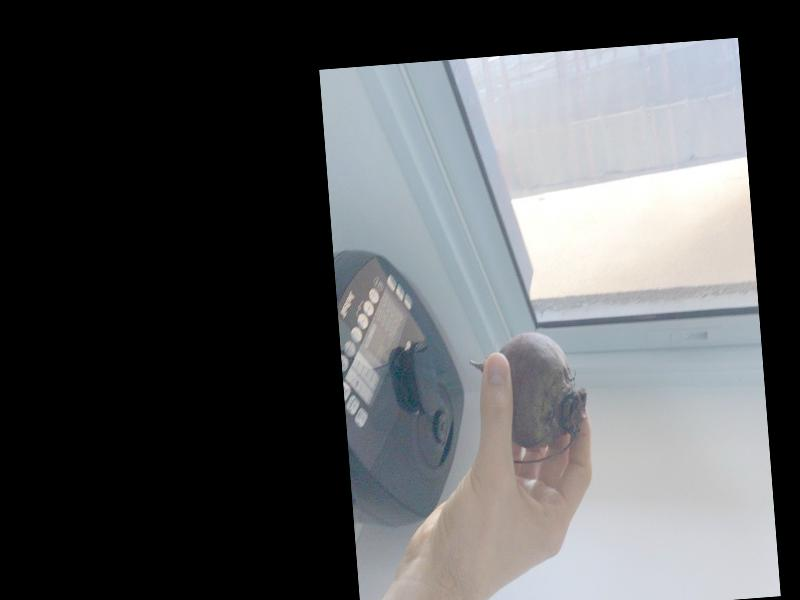Beet: (468, 328, 591, 465)
